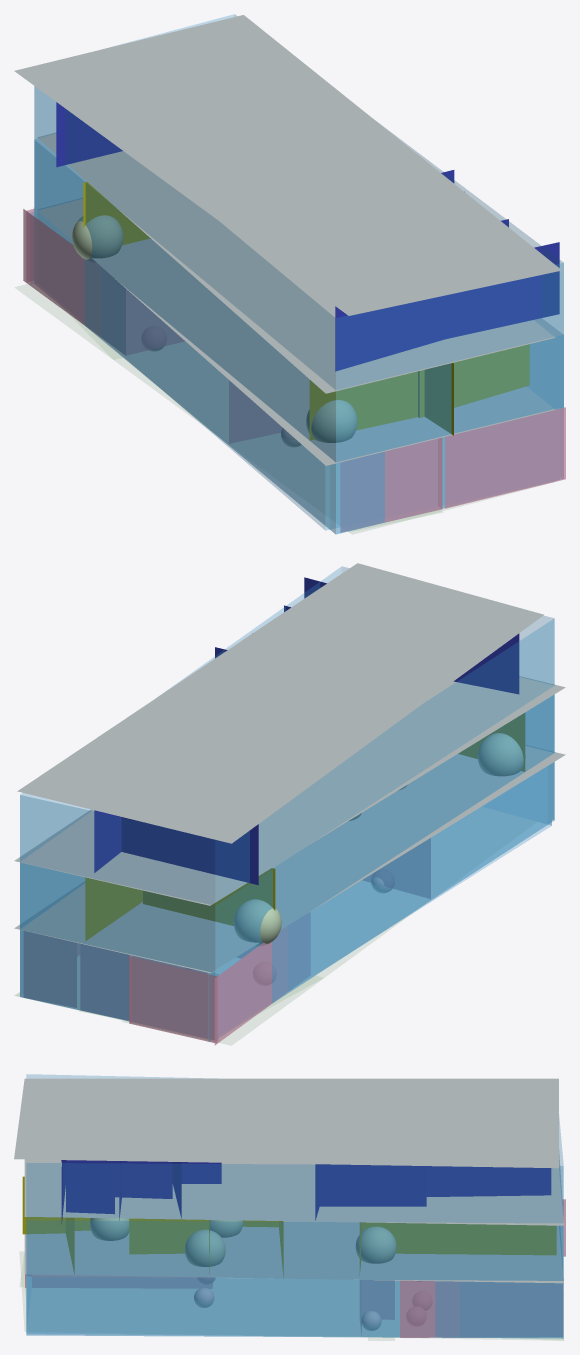
File: mymodel.gltf
3 views of the same model, one above another, from view 1: azimuth 30°, elevation 25°; view 2: azimuth 150°, elevation 25°; view 3: azimuth 270°, elevation 25° (orthographic). The views are drawn at different scales.
Parts seen in each view (by area): view 1: boundary, Outer_wall, Inner_walls, Innerwalls_floor3, Innerwall_floor2, poifloor2, Building; view 2: boundary, Outer_wall, Inner_walls, Innerwalls_floor3, Innerwall_floor2, poifloor2, Building; view 3: Outer_wall, boundary, Innerwalls_floor3, Inner_walls, Innerwall_floor2, poifloor2, Building, Point_of_Interest_at_ground.
Boxes of the visible parts, <box> form: boundary: <box>14,15,561,465</box>; Outer_wall: <box>30,14,563,534</box>; Inner_walls: <box>23,209,565,532</box>; Innerwalls_floor3: <box>56,102,559,371</box>; Innerwall_floor2: <box>83,182,529,440</box>; poifloor2: <box>72,215,357,442</box>; Building: <box>15,284,548,534</box>; boundary: <box>14,563,565,972</box>; Outer_wall: <box>20,566,554,1041</box>; Inner_walls: <box>24,838,430,1045</box>; Innerwalls_floor3: <box>94,577,519,885</box>; Innerwall_floor2: <box>85,713,525,940</box>; poifloor2: <box>233,733,525,946</box>; Building: <box>14,911,414,1045</box>; Outer_wall: <box>26,1074,563,1338</box>; boundary: <box>14,1078,563,1283</box>; Innerwalls_floor3: <box>61,1160,551,1224</box>; Inner_walls: <box>25,1199,565,1337</box>; Innerwall_floor2: <box>22,1176,556,1278</box>; poifloor2: <box>90,1218,396,1266</box>; Building: <box>19,1251,563,1340</box>; Point_of_Interest_at_ground: <box>194,1278,381,1330</box>.
Size of what is drawn, in the model's own units: 11.18 by 9.48 by 26.09.
